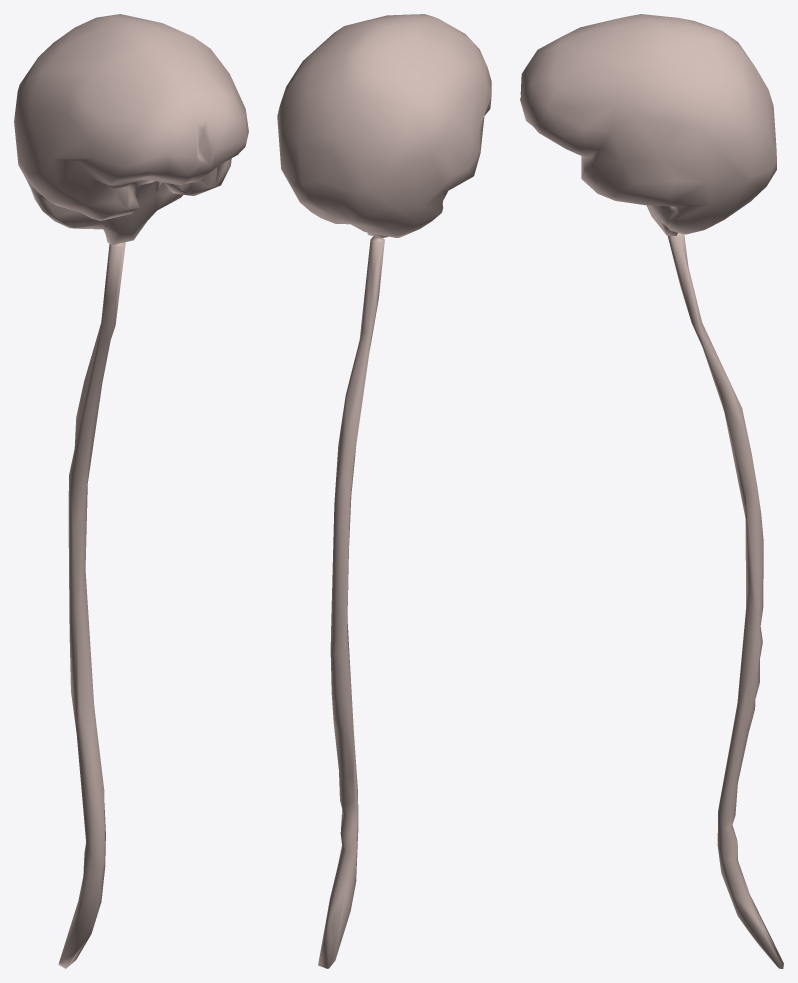
The model's file is pediatric_child_10y_female.nervous.LOD2.glb.
The picture shows the model from 3 angles, left to right: view 1: azimuth 30°, elevation 25°; view 2: azimuth 150°, elevation 25°; view 3: azimuth 270°, elevation 25°; orthographic projection. The views are drawn at different scales.
Parts seen in each view (by area): view 1: PEDIATRIC.CHILD_10Y.FEMALE.NERVOUS.BRAIN, PEDIATRIC.CHILD_10Y.FEMALE.NERVOUS.SPINAL_CORD; view 2: PEDIATRIC.CHILD_10Y.FEMALE.NERVOUS.BRAIN, PEDIATRIC.CHILD_10Y.FEMALE.NERVOUS.SPINAL_CORD; view 3: PEDIATRIC.CHILD_10Y.FEMALE.NERVOUS.BRAIN, PEDIATRIC.CHILD_10Y.FEMALE.NERVOUS.SPINAL_CORD.
Part boxes in pixels (left/top/right/bottom): PEDIATRIC.CHILD_10Y.FEMALE.NERVOUS.BRAIN: left=14, top=14, right=248, bottom=245; PEDIATRIC.CHILD_10Y.FEMALE.NERVOUS.SPINAL_CORD: left=58, top=242, right=125, bottom=968; PEDIATRIC.CHILD_10Y.FEMALE.NERVOUS.BRAIN: left=277, top=14, right=491, bottom=237; PEDIATRIC.CHILD_10Y.FEMALE.NERVOUS.SPINAL_CORD: left=318, top=236, right=384, bottom=968; PEDIATRIC.CHILD_10Y.FEMALE.NERVOUS.BRAIN: left=520, top=14, right=776, bottom=235; PEDIATRIC.CHILD_10Y.FEMALE.NERVOUS.SPINAL_CORD: left=668, top=232, right=783, bottom=968.
Bounding box in the file's own units: 0.1297 × 0.6373 × 0.1606.
